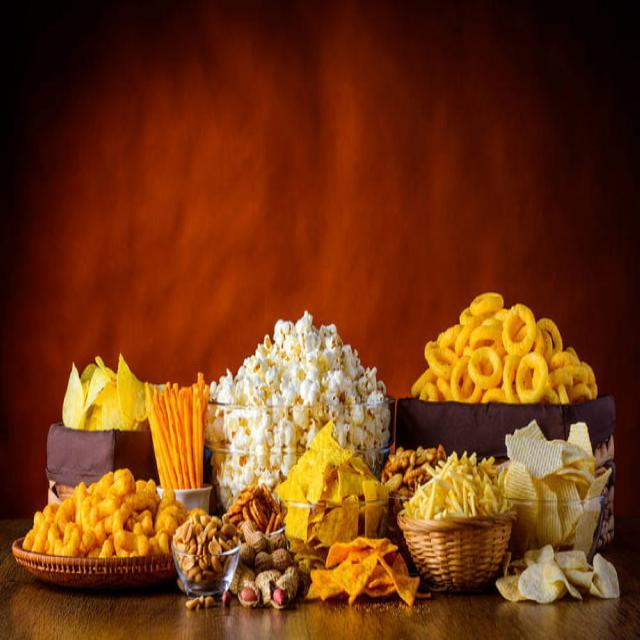Chips packaged: (422, 291, 590, 400), (30, 474, 176, 564), (66, 360, 140, 432), (502, 303, 536, 355)
Popcorn: (213, 307, 379, 411)
